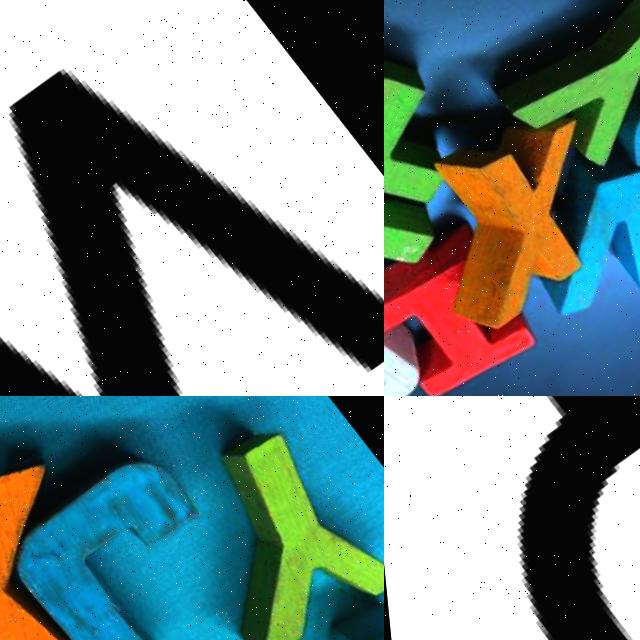F: (384, 3, 557, 324)
I: (384, 212, 548, 396)
J: (577, 19, 640, 244)
N: (0, 0, 384, 396)
Q: (384, 396, 640, 640)
V: (473, 116, 640, 343), (226, 557, 384, 640)
X: (384, 71, 640, 345), (0, 412, 165, 640)
Y: (116, 396, 384, 640), (453, 0, 640, 205)
